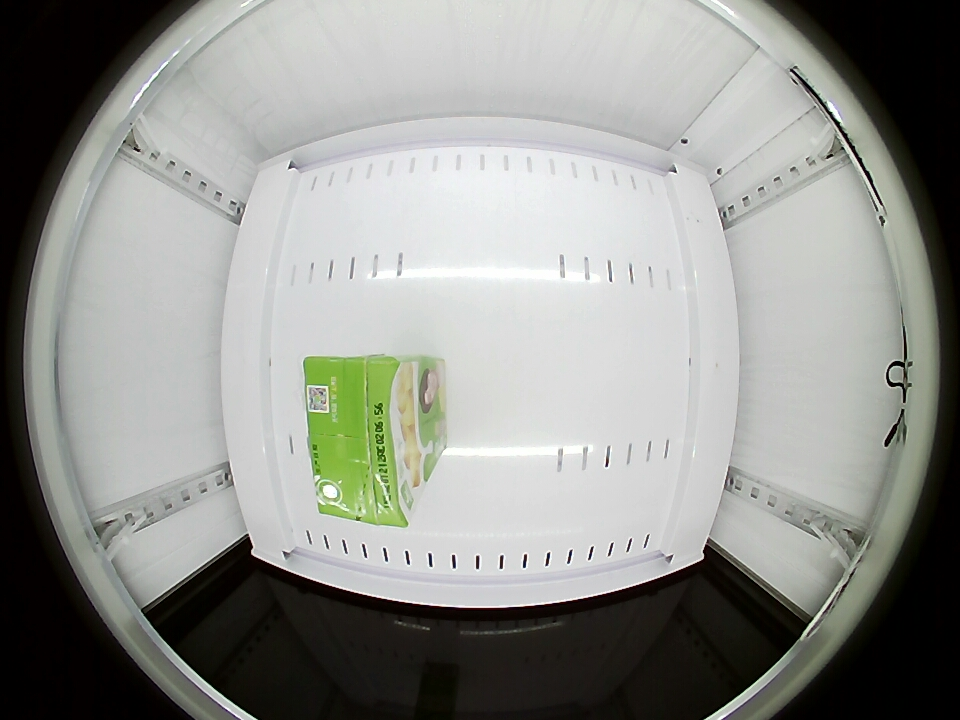mengniuzaocan: (306, 356, 426, 528)
